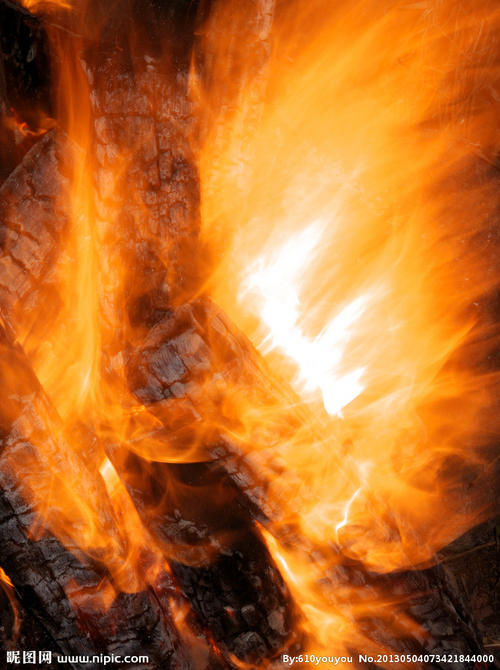fire: (245, 174, 500, 407), (234, 40, 493, 160)
